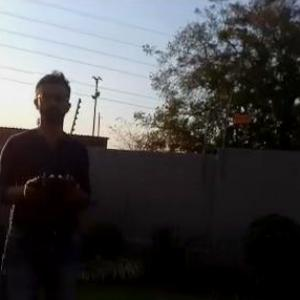follow: (0, 64, 96, 299)
